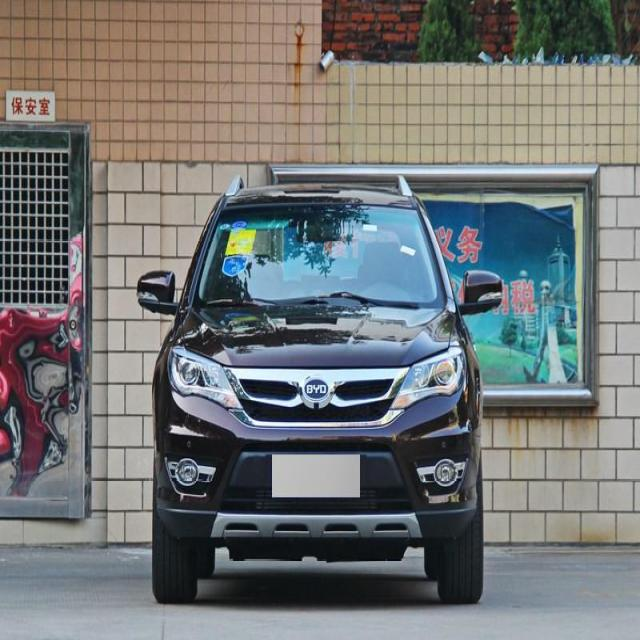front_bumper: (153, 386, 480, 540)
front_glass: (192, 203, 446, 307)
front_left_side_light: (389, 342, 467, 412)
front_left_side_mirror: (458, 268, 504, 316)
front_right_side_light: (167, 342, 243, 412)
front_right_side_mirror: (136, 268, 178, 318)
